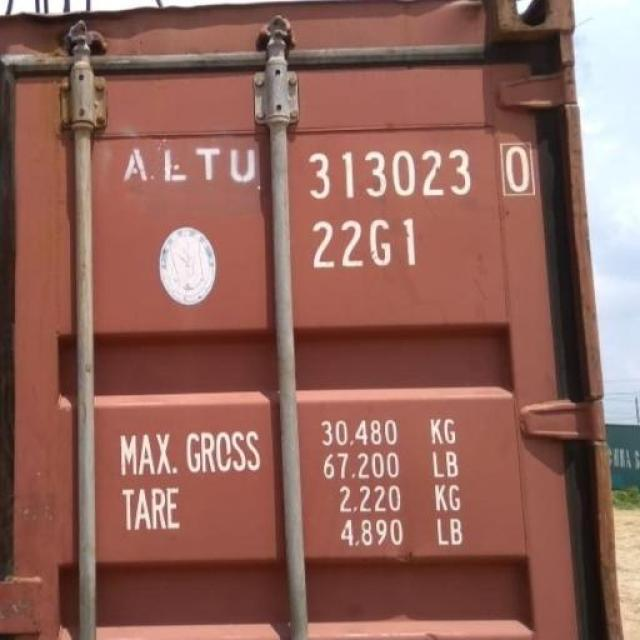ISO: (300, 212, 426, 274)
container_number: (121, 145, 536, 210)
